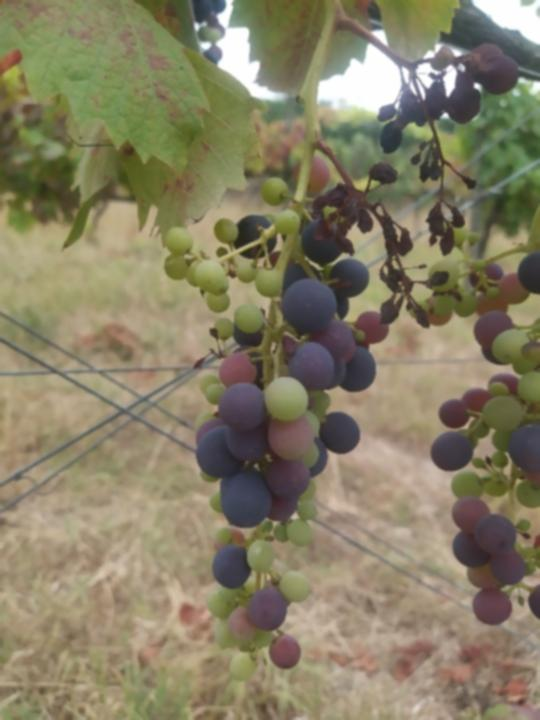grape: (158, 153, 450, 690), (376, 40, 519, 257)
